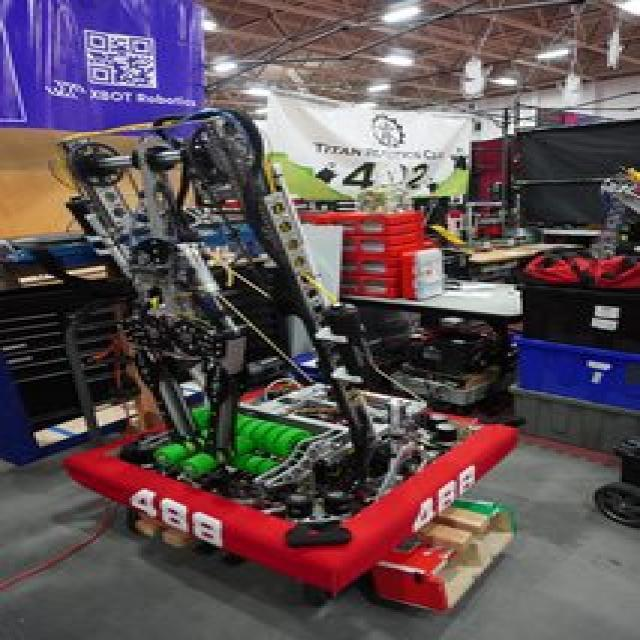robot: (54, 112, 530, 622)
